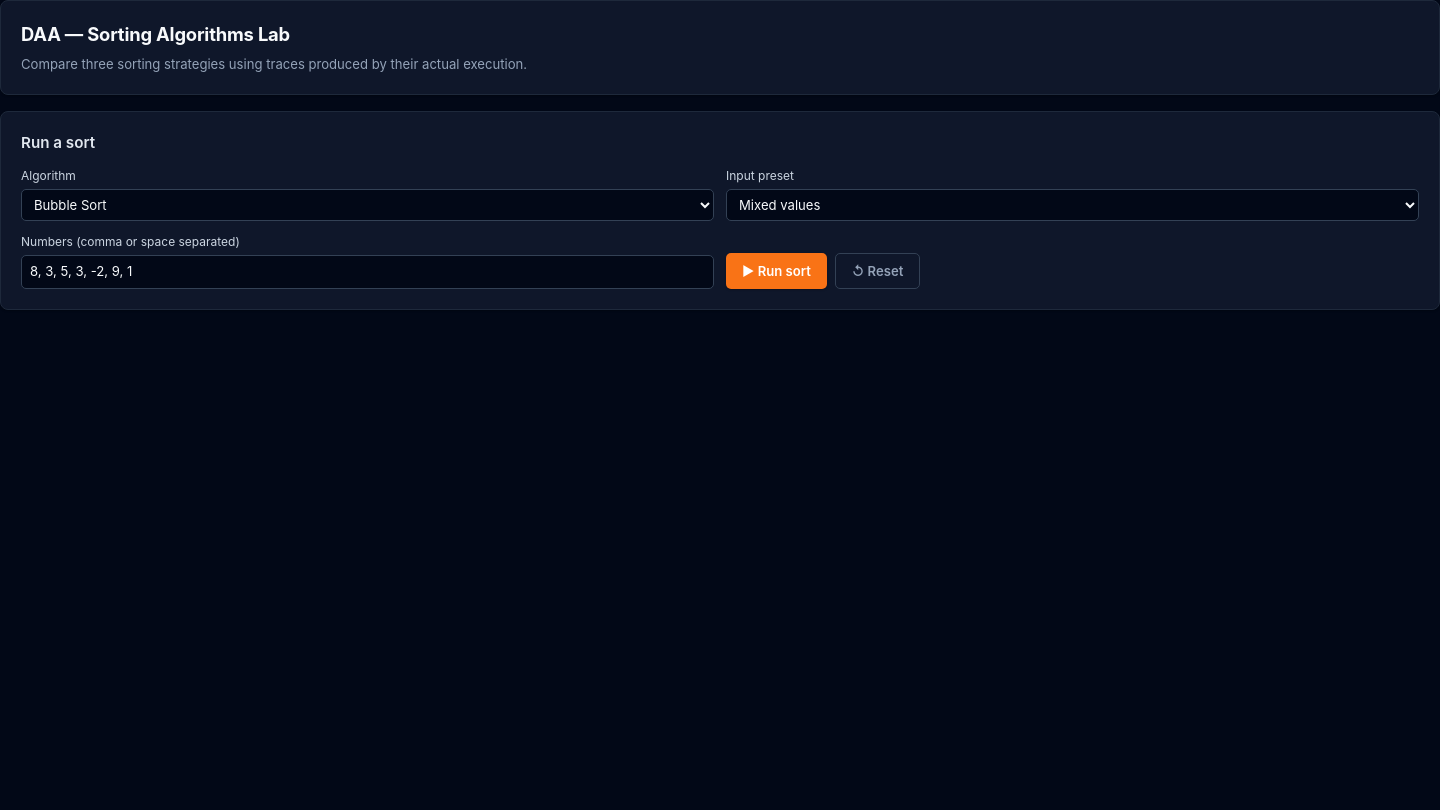
Test: SortingLab › renders each displayed trace row from the engine events
The image size is (1440, 810).
Select "Merge Sort" in the dropdown named "Sorting algorithm" at (368, 205), box [21,189,714,221]
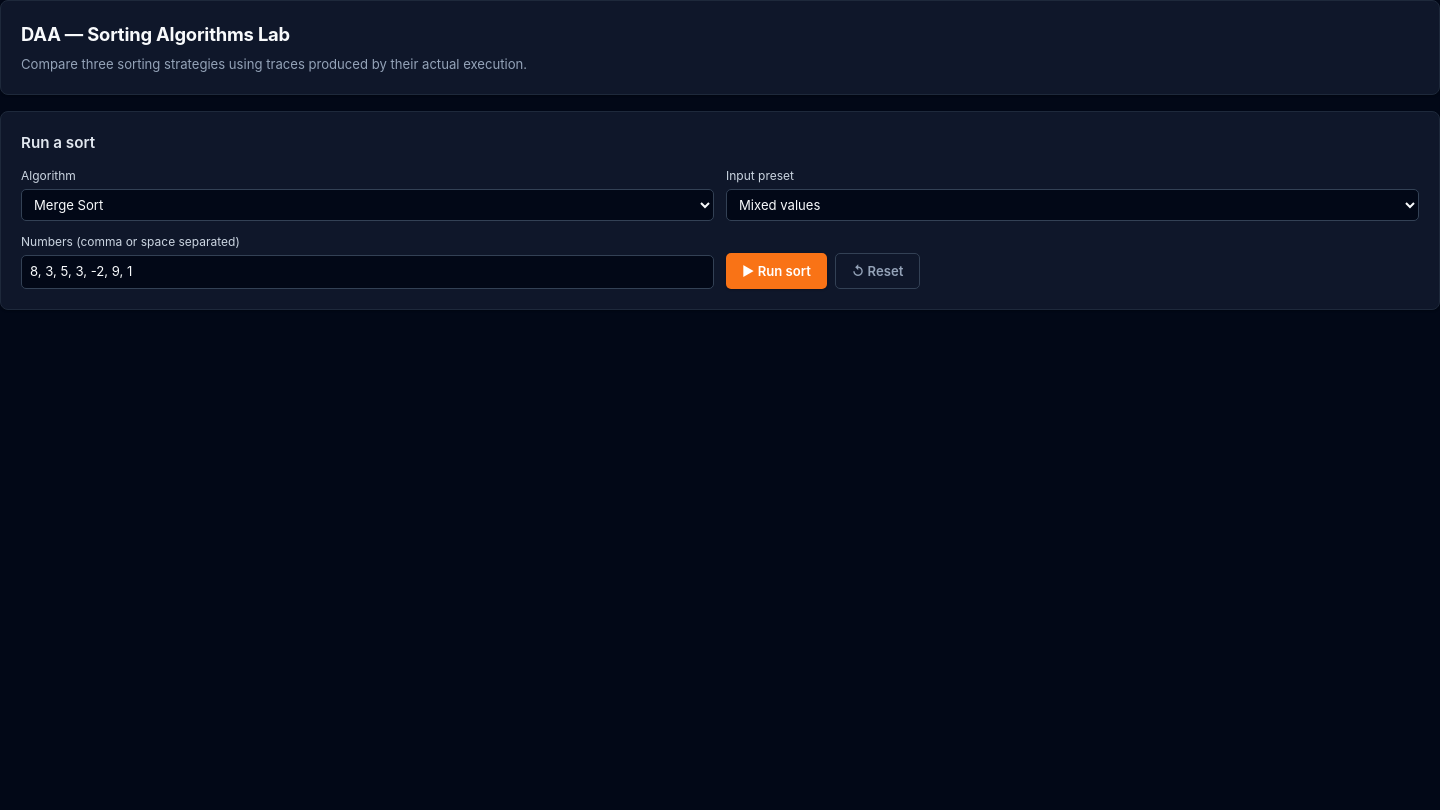
Replace the text in the field named "Numeric input" with "4, 1, 3" at (368, 272), box [21,255,714,289]
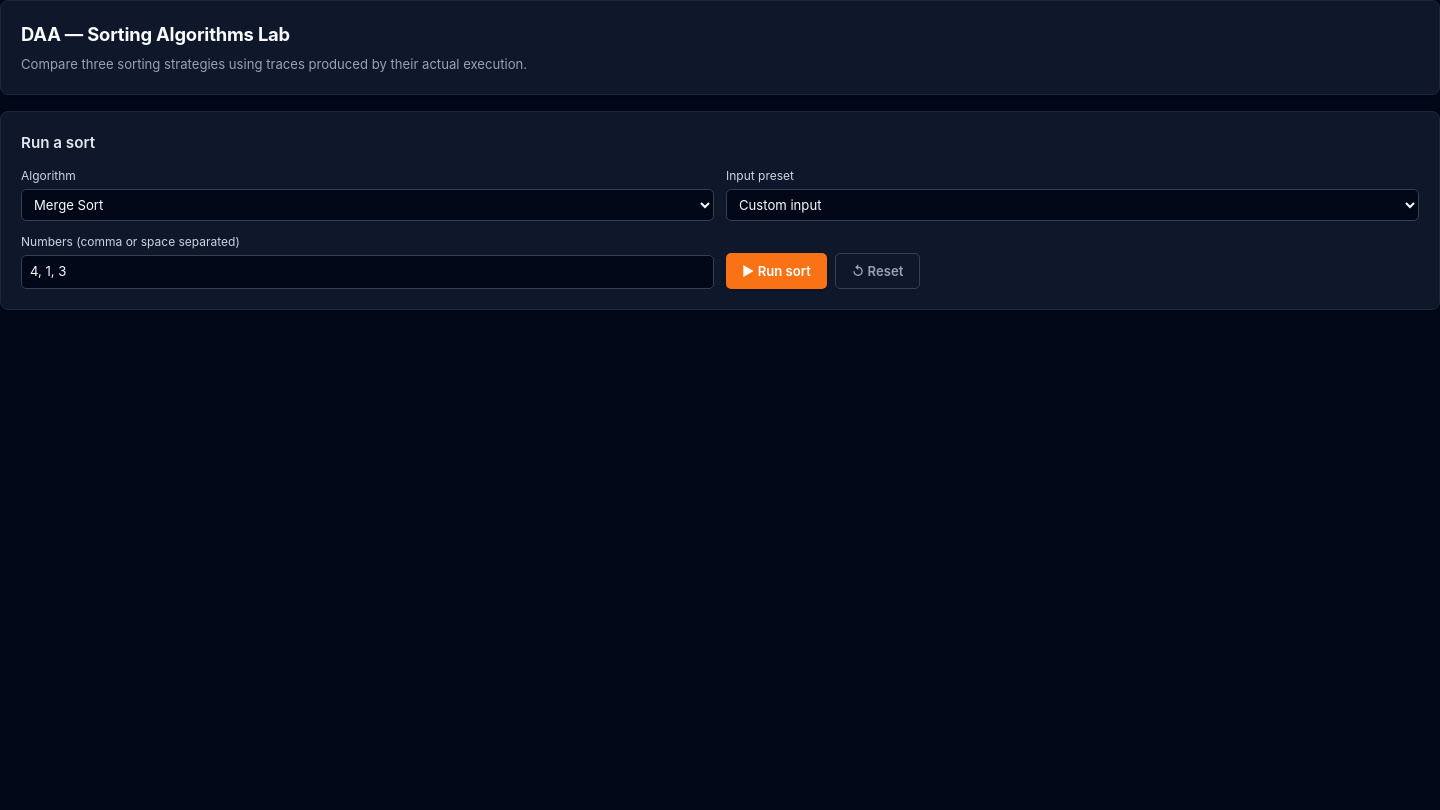
Click the button "▶ Run sort" at (776, 271), box [726,253,827,289]
(page scrolled)
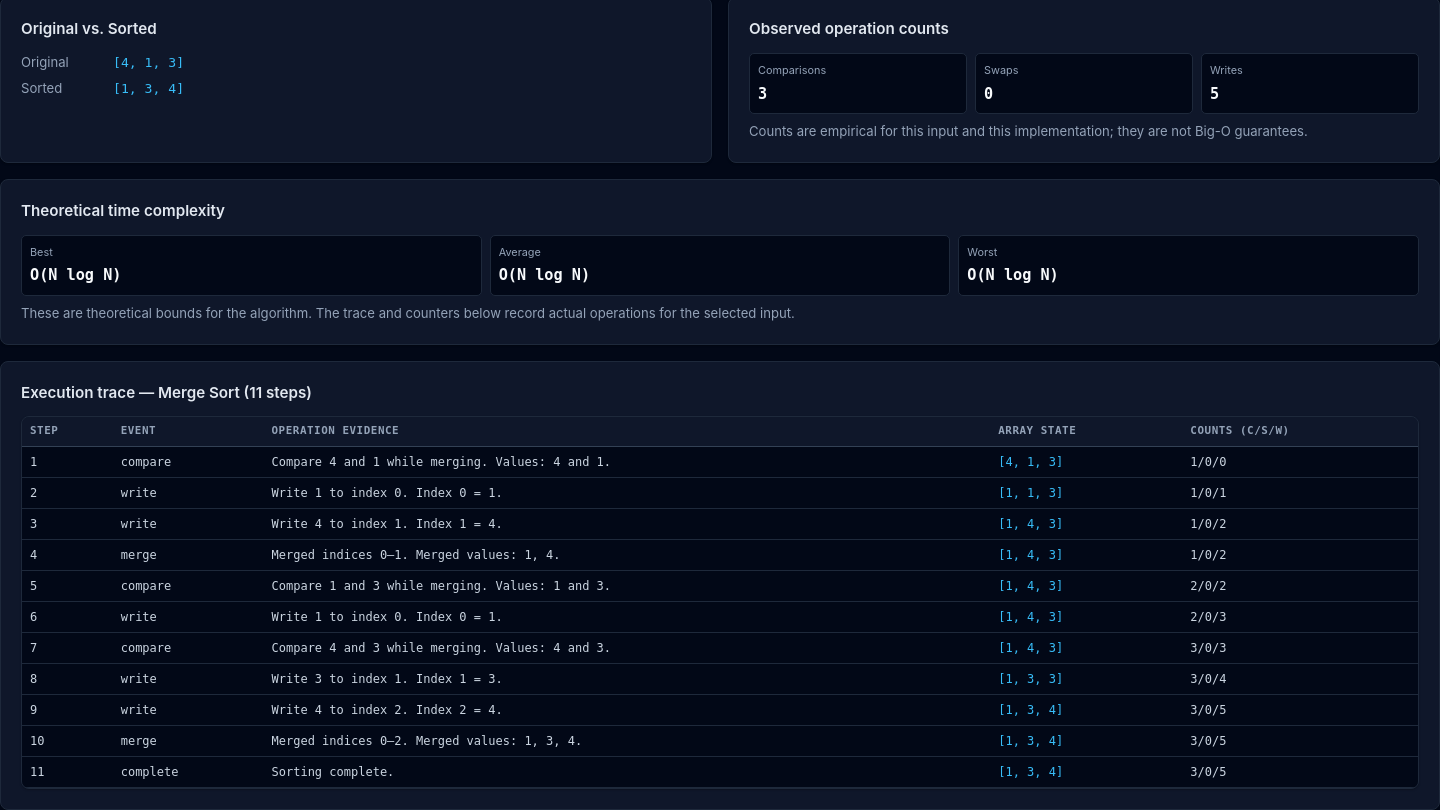
Check: the text "1" is shown, box [30,455,37,469]
Check: the text "compare" is shown, box [121,455,171,469]
Check: the text "4, 1, 3" is shown, box [998,455,1063,469]
